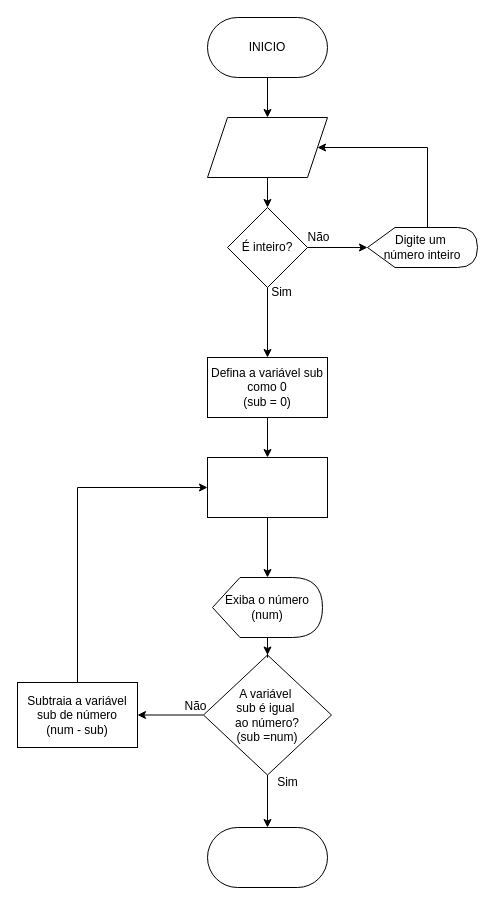
The diagram is 495 pixels wide and 905 high, and some of its shapes have lost their labels. The shapes that lost their labels are listed below. From the top down, each one's box as (x1, y1, x2, y2) in pixels, then its label:
(206, 116, 328, 178): Receba um número (num)
(206, 456, 328, 518): Adicione 1 na variável sub
(206, 826, 328, 888): FINAL
